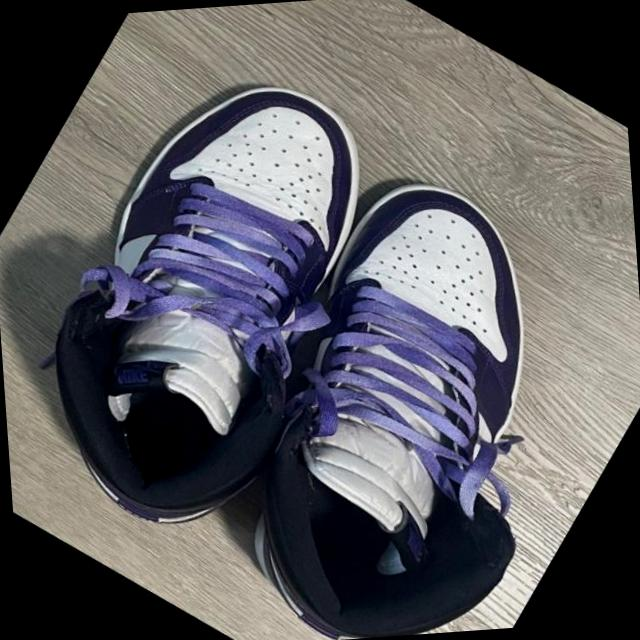nike_original_jordan: (0, 24, 460, 570), (145, 143, 640, 640)
